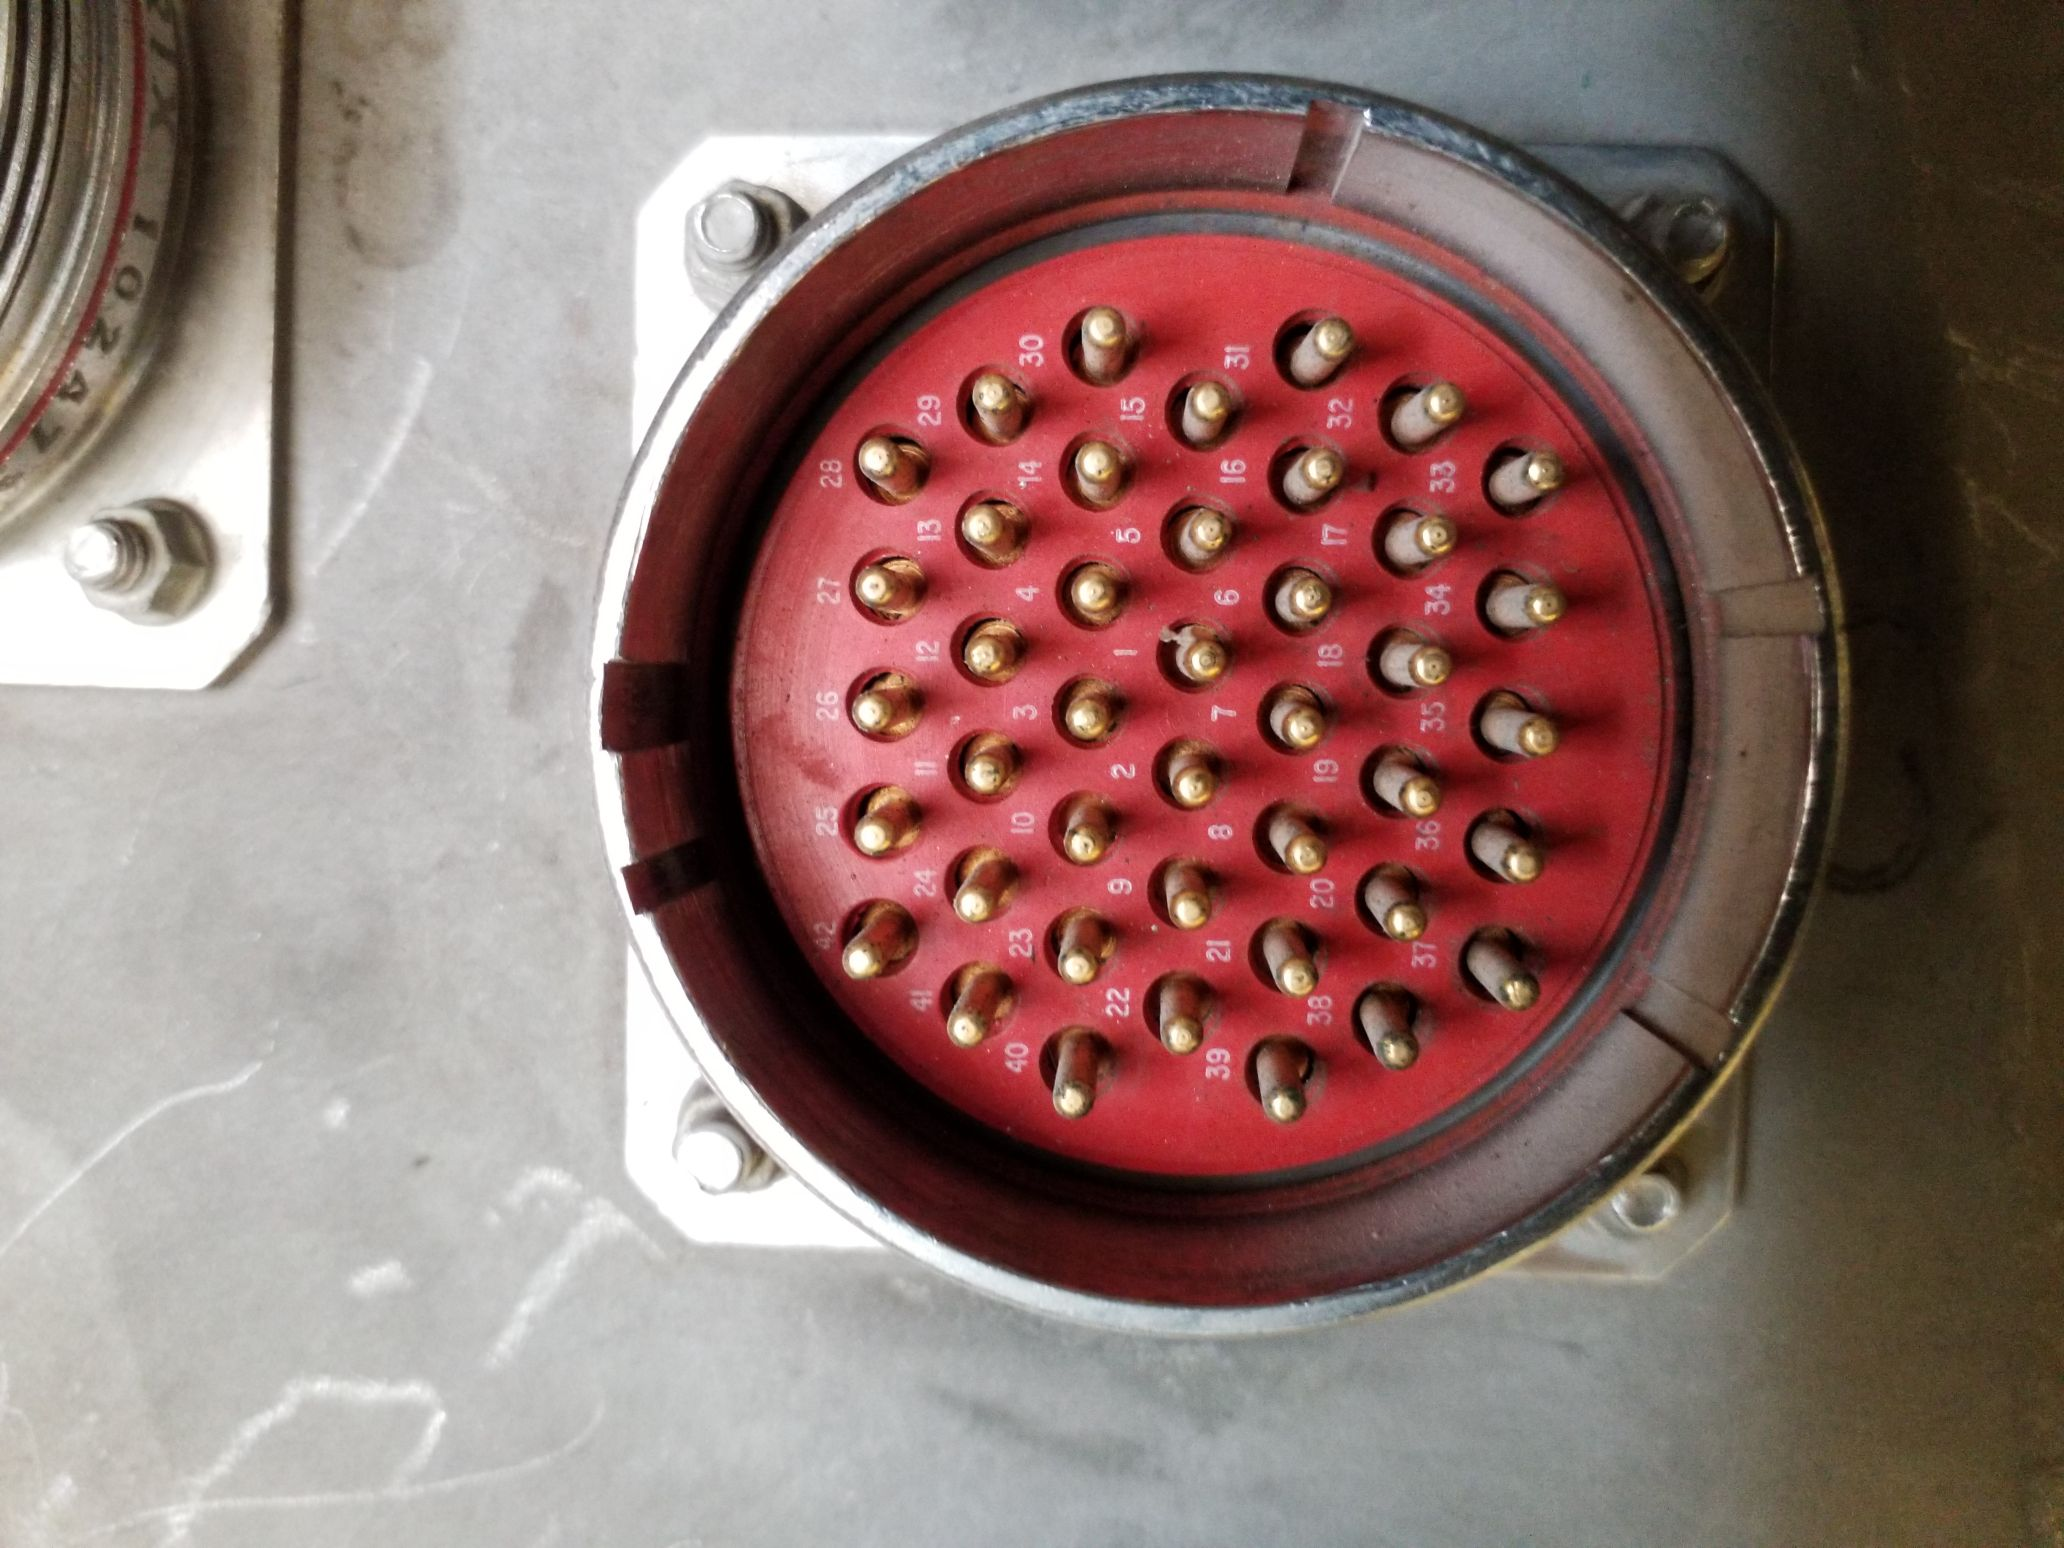outlet: (583, 68, 1849, 1302)
